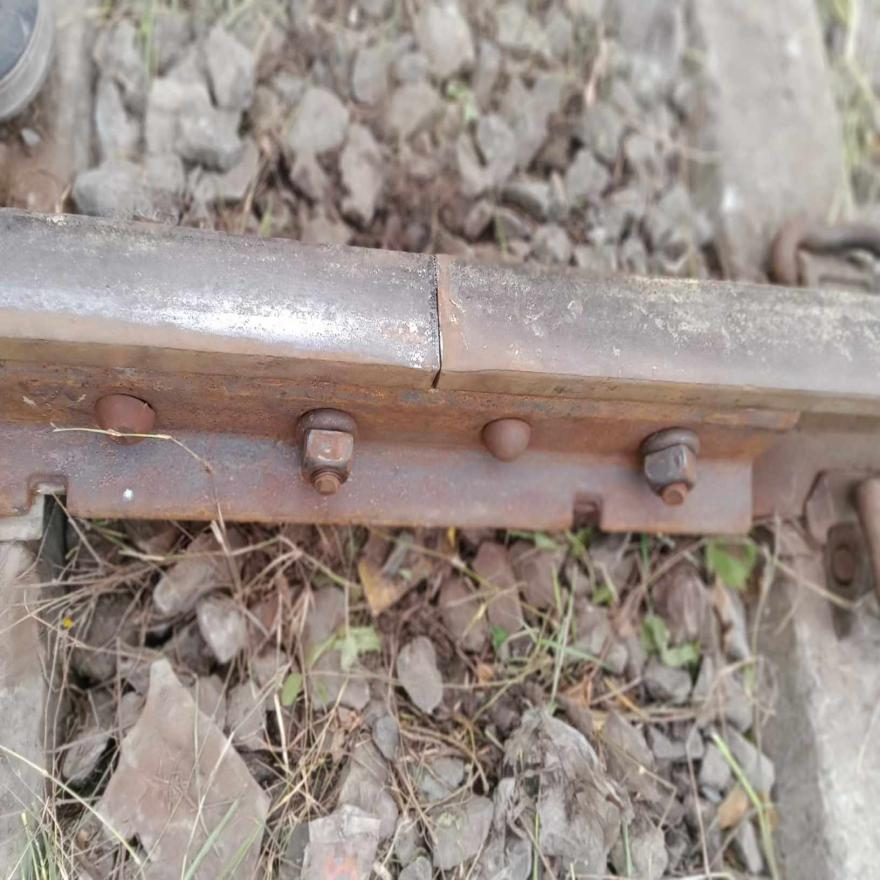railway-gap: (360, 222, 520, 422)
